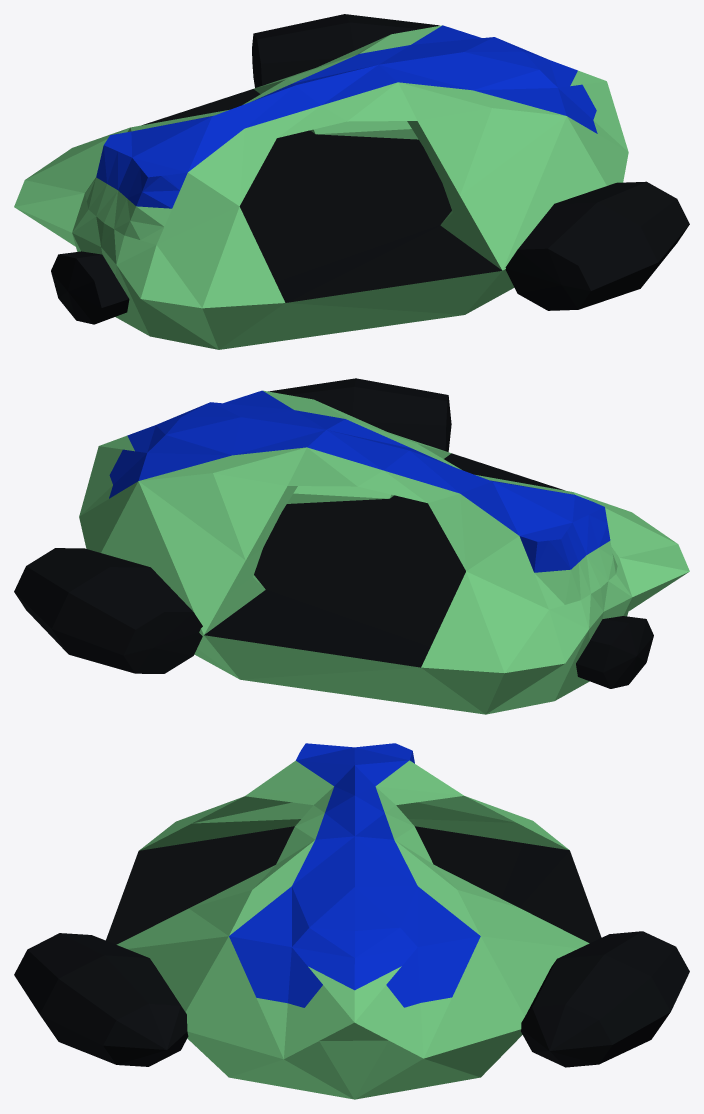
Rendered from carrier-ship.obj.
3 views of the same model, one above another, from view 1: azimuth 30°, elevation 25°; view 2: azimuth 150°, elevation 25°; view 3: azimuth 270°, elevation 25° (orthographic).
Visible parts, largest first — view 1: Sphere, Sphere.001, Sphere.002, Sphere.003; view 2: Sphere, Sphere.002, Sphere.001, Sphere.003; view 3: Sphere, Sphere.001, Sphere.002.
Boxes of the visible parts, x1,y1,x2,y2 form: Sphere: (14,25,628,349); Sphere.001: (505,181,689,310); Sphere.002: (252,14,439,87); Sphere.003: (51,251,129,324); Sphere: (79,390,689,714); Sphere.002: (14,548,202,673); Sphere.001: (268,378,451,451); Sphere.003: (576,616,653,688); Sphere: (106,743,601,1099); Sphere.001: (14,933,188,1066); Sphere.002: (521,931,689,1067).
Size of the model in its own units: 12.55 by 4.62 by 13.42.
